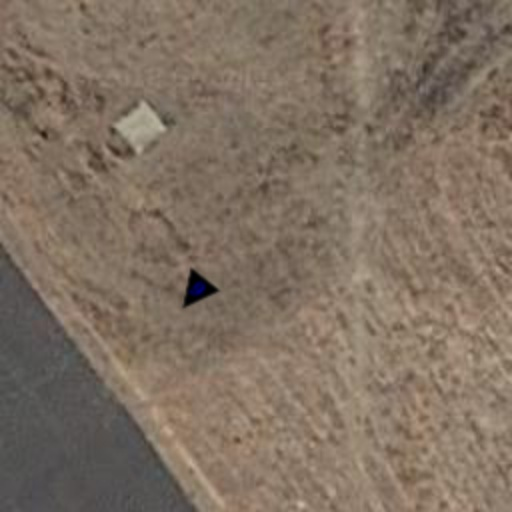triangle: (166, 266, 222, 322)
